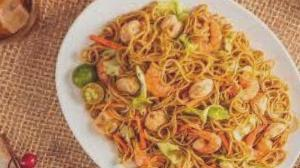pancit bihon: (82, 5, 294, 167)
